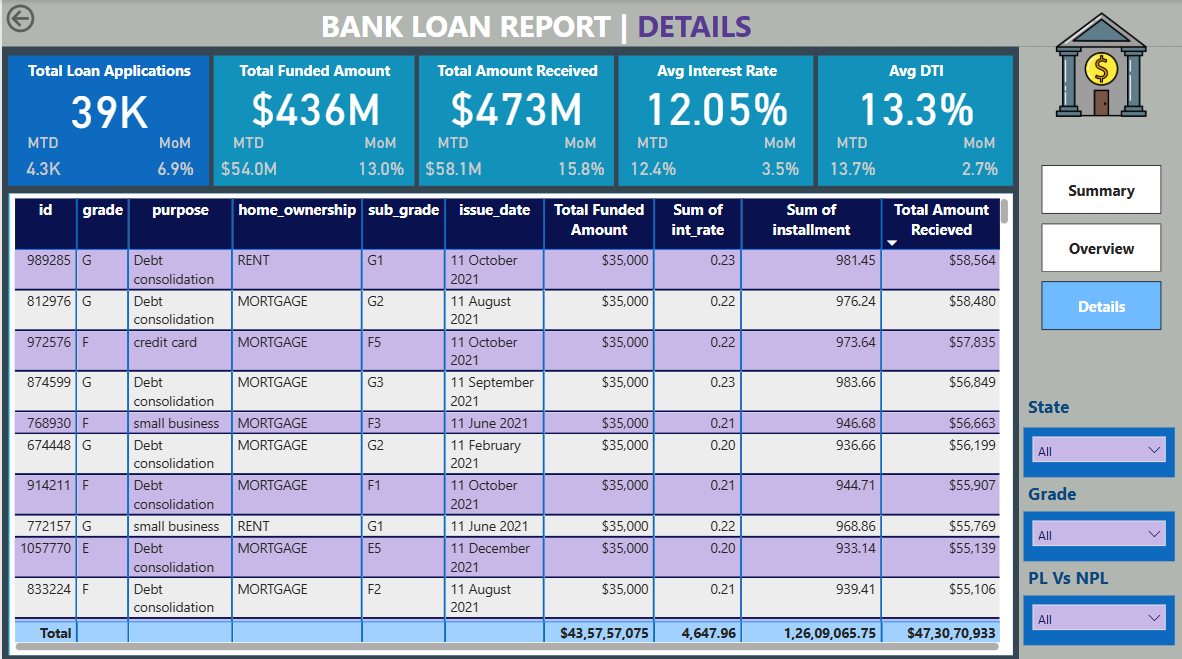

Layout of this report page (visuals, bound fields, positions):
{"tool":"powerbi","page":{"name":"Details","canvas":[1280,720],"ordinal":2},"visuals":[{"type":"shape","box":[0,0,1280.1,50.4],"z":0},{"type":"shape","box":[6.3,60.2,218,141.5],"z":0,"group":"g1"},{"type":"shape","box":[229.1,60.2,218,141.5],"z":0,"group":"g2"},{"type":"shape","box":[451.7,60.2,211.5,141.5],"z":0,"group":"g3"},{"type":"shape","box":[669.1,60.2,211.5,141.5],"z":0,"group":"g4"},{"type":"shape","box":[884.7,60.2,211.5,141.5],"z":0,"group":"g5"},{"type":"shape","box":[1102.8,50.4,177.3,670.1],"z":1000},{"type":"card","fields":{"Values":["financial_loan.Total Funded Amount"]},"box":[243.2,77.8,191.9,68.3],"z":1000,"group":"g2"},{"type":"card","fields":{"Values":["financial_loan.Total Amount Recieved"]},"box":[464.6,77.8,185.4,68.3],"z":1000,"group":"g3"},{"type":"card","fields":{"Values":["financial_loan.Avg Interest Rate"]},"box":[682,77.8,185.4,68.3],"z":1000,"group":"g4"},{"type":"card","fields":{"Values":["financial_loan.Avg DTI"]},"box":[897.6,77.8,185.4,68.3],"z":1000,"group":"g5"},{"type":"card","fields":{"Values":["financial_loan.Total Loan Applications"]},"box":[53.7,83,124.5,63.4],"z":1000,"group":"g1"},{"type":"textbox","box":[15.2,60.2,203.1,43.9],"z":2000,"group":"g1"},{"type":"textbox","box":[238,60.2,203.1,43.9],"z":2000,"group":"g2"},{"type":"textbox","box":[460.3,60.2,197.1,43.9],"z":2000,"group":"g3"},{"type":"textbox","box":[677.7,60.2,197.1,43.9],"z":2000,"group":"g4"},{"type":"textbox","box":[893.3,60.2,197.1,43.9],"z":2000,"group":"g5"},{"type":"shape","box":[6.5,209.8,1089.8,501],"z":2000},{"type":"card","title":"MTD","fields":{"Values":["financial_loan.MTD Loan Applications"]},"box":[6.3,144.8,75.6,56.9],"z":3000,"group":"g1"},{"type":"card","title":"MTD","fields":{"Values":["financial_loan.MTD Funded Amount"]},"box":[229.1,144.8,75.6,56.9],"z":3000,"group":"g2"},{"type":"card","title":"MTD","fields":{"Values":["financial_loan.MTD Total Amount Recieved"]},"box":[451.7,144.8,73.4,56.9],"z":3000,"group":"g3"},{"type":"card","title":"MTD","fields":{"Values":["financial_loan.MTD Avg Interest Rate"]},"box":[669.1,144.8,73.4,56.9],"z":3000,"group":"g4"},{"type":"card","title":"MTD","fields":{"Values":["financial_loan.MTD Avg DTI"]},"box":[884.7,144.8,73.4,56.9],"z":3000,"group":"g5"},{"type":"textbox","box":[1107.7,608.3,152.9,37.4],"z":3000},{"type":"textbox","box":[219.6,0,718.9,60.2],"z":4000},{"type":"card","title":"MoM","fields":{"Values":["financial_loan.MOM Loan Applications"]},"box":[148.6,144.8,75.6,56.9],"z":4000,"group":"g1"},{"type":"card","title":"MoM","fields":{"Values":["financial_loan.MoM Funded Amount"]},"box":[371.4,144.8,75.6,56.9],"z":4000,"group":"g2"},{"type":"card","title":"MoM","fields":{"Values":["financial_loan.MOM Total Amount Recieved"]},"box":[589.8,144.8,73.4,56.9],"z":4000,"group":"g3"},{"type":"card","title":"MoM","fields":{"Values":["financial_loan.MoM Avg Interest Rate"]},"box":[807.2,144.8,73.4,56.9],"z":4000,"group":"g4"},{"type":"card","title":"MoM","fields":{"Values":["financial_loan.MoM Avg DTI"]},"box":[1022.8,144.8,73.4,56.9],"z":4000,"group":"g5"},{"type":"group","id":"g1","title":"Group 1","box":[6.3,60.2,218,141.5],"z":5000},{"type":"group","id":"g2","title":"Group 1","box":[229.1,60.2,218,141.5],"z":6000},{"type":"group","id":"g3","title":"Group 1","box":[451.7,60.2,211.5,141.5],"z":7000},{"type":"group","id":"g4","title":"Group 1","box":[669.1,60.2,211.5,141.5],"z":8000},{"type":"group","id":"g5","title":"Group 1","box":[884.7,60.2,211.5,141.5],"z":9000},{"type":"slicer","fields":{"Values":["financial_loan.Performing Vs Non-Performing Loans"]},"box":[1107.7,645.7,164.3,53.7],"z":10000},{"type":"slicer","fields":{"Values":["financial_loan.grade"]},"box":[1107.7,554.7,164.3,53.7],"z":11000},{"type":"slicer","fields":{"Values":["financial_loan.address_state"]},"box":[1107.7,463.6,164.3,53.7],"z":12000},{"type":"textbox","box":[1107.7,517.2,152.9,37.4],"z":13000},{"type":"textbox","box":[1107.7,422.9,152.9,37.4],"z":14000},{"type":"tableEx","fields":{"Values":["financial_loan.id","financial_loan.grade","financial_loan.purpose","financial_loan.home_ownership","financial_loan.sub_grade","financial_loan.issue_date","financial_loan.Total Funded Amount","Sum(financial_loan.int_rate)","Sum(financial_loan.installment)","financial_loan.Total Amount Recieved"]},"box":[8.1,209.8,1088.2,501],"z":15000},{"type":"actionButton","box":[0,0,100,40],"z":16000},{"type":"pageNavigator","box":[1127.2,178.9,130.1,180.5],"z":17000},{"type":"image","box":[1132.1,8.1,120.4,123.6],"z":18000}]}

Visuals, with their boxes in screenshot pixels (x1, y1, x2, y2), scaled from the page's 1280x720 canvas onto the 1182x659 screenshot:
shape: bbox=[0, 0, 1181, 46]
shape: bbox=[6, 55, 207, 185]
shape: bbox=[212, 55, 413, 185]
shape: bbox=[417, 55, 612, 185]
shape: bbox=[618, 55, 813, 185]
shape: bbox=[817, 55, 1012, 185]
shape: bbox=[1018, 46, 1181, 658]
card - financial_loan.Total Funded Amount: bbox=[225, 71, 402, 134]
card - financial_loan.Total Amount Recieved: bbox=[429, 71, 600, 134]
card - financial_loan.Avg Interest Rate: bbox=[630, 71, 801, 134]
card - financial_loan.Avg DTI: bbox=[829, 71, 1000, 134]
card - financial_loan.Total Loan Applications: bbox=[50, 76, 165, 134]
textbox: bbox=[14, 55, 202, 95]
textbox: bbox=[220, 55, 407, 95]
textbox: bbox=[425, 55, 607, 95]
textbox: bbox=[626, 55, 808, 95]
textbox: bbox=[825, 55, 1007, 95]
shape: bbox=[6, 192, 1012, 651]
"MTD" card: bbox=[6, 133, 76, 185]
"MTD" card: bbox=[212, 133, 281, 185]
"MTD" card: bbox=[417, 133, 485, 185]
"MTD" card: bbox=[618, 133, 686, 185]
"MTD" card: bbox=[817, 133, 885, 185]
textbox: bbox=[1023, 557, 1164, 591]
textbox: bbox=[203, 0, 867, 55]
"MoM" card: bbox=[137, 133, 207, 185]
"MoM" card: bbox=[343, 133, 413, 185]
"MoM" card: bbox=[545, 133, 612, 185]
"MoM" card: bbox=[745, 133, 813, 185]
"MoM" card: bbox=[944, 133, 1012, 185]
"Group 1" group: bbox=[6, 55, 207, 185]
"Group 1" group: bbox=[212, 55, 413, 185]
"Group 1" group: bbox=[417, 55, 612, 185]
"Group 1" group: bbox=[618, 55, 813, 185]
"Group 1" group: bbox=[817, 55, 1012, 185]
slicer - financial_loan.Performing Vs Non-Performing Loans: bbox=[1023, 591, 1175, 640]
slicer - financial_loan.grade: bbox=[1023, 508, 1175, 557]
slicer - financial_loan.address_state: bbox=[1023, 424, 1175, 473]
textbox: bbox=[1023, 473, 1164, 508]
textbox: bbox=[1023, 387, 1164, 421]
tableEx - financial_loan.id x financial_loan.grade: bbox=[7, 192, 1012, 651]
actionButton: bbox=[0, 0, 92, 37]
pageNavigator: bbox=[1041, 164, 1161, 329]
image: bbox=[1045, 7, 1157, 121]
